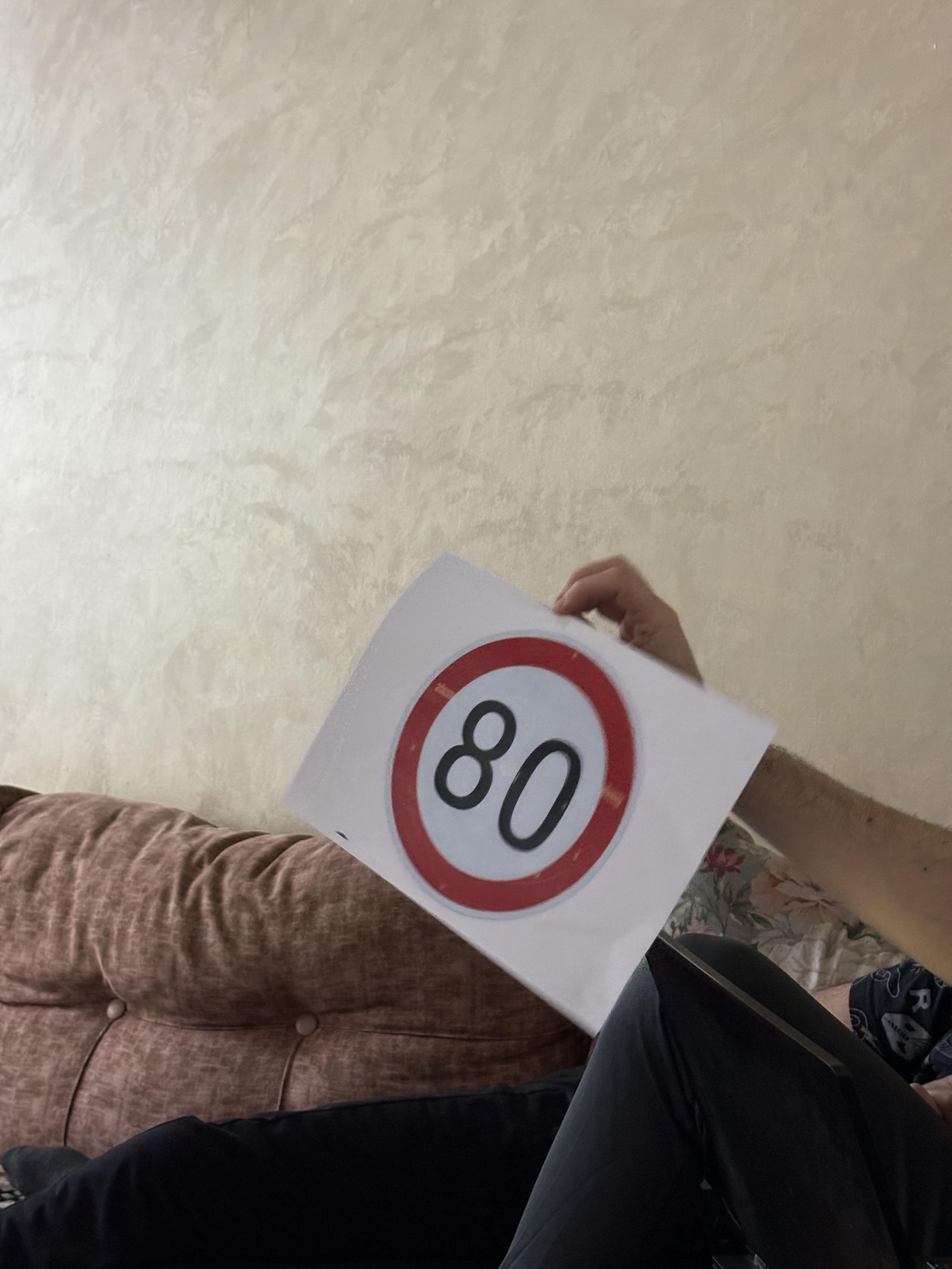80-Speed: (375, 624, 641, 933)
